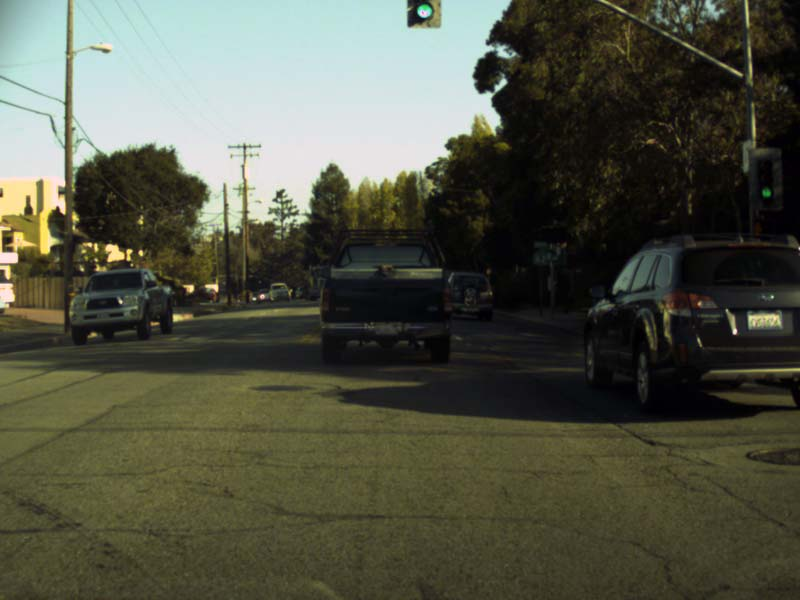Green: (756, 158, 777, 203)
